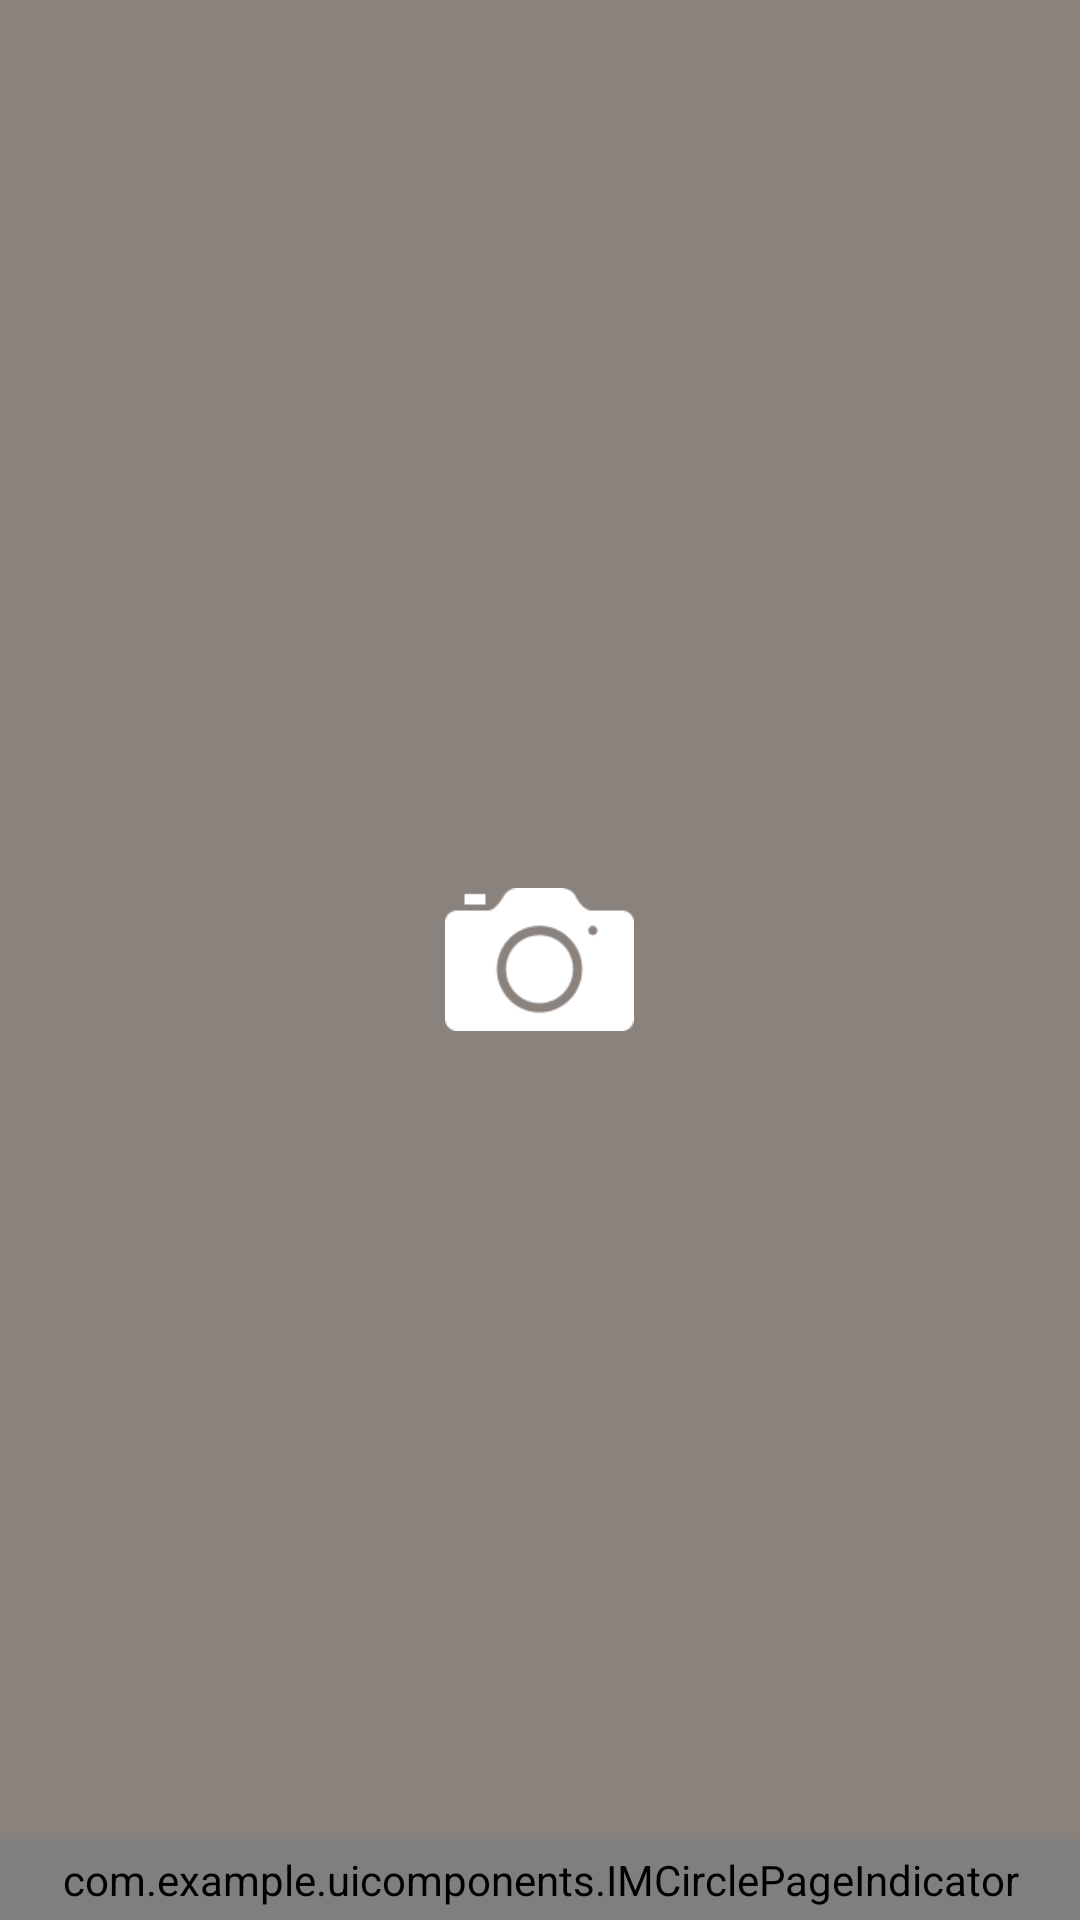

Screen size 1080w x 1920h. Icon name, then its center in pixels as (x=x, y=y):
select picture take: (x=539, y=959)
